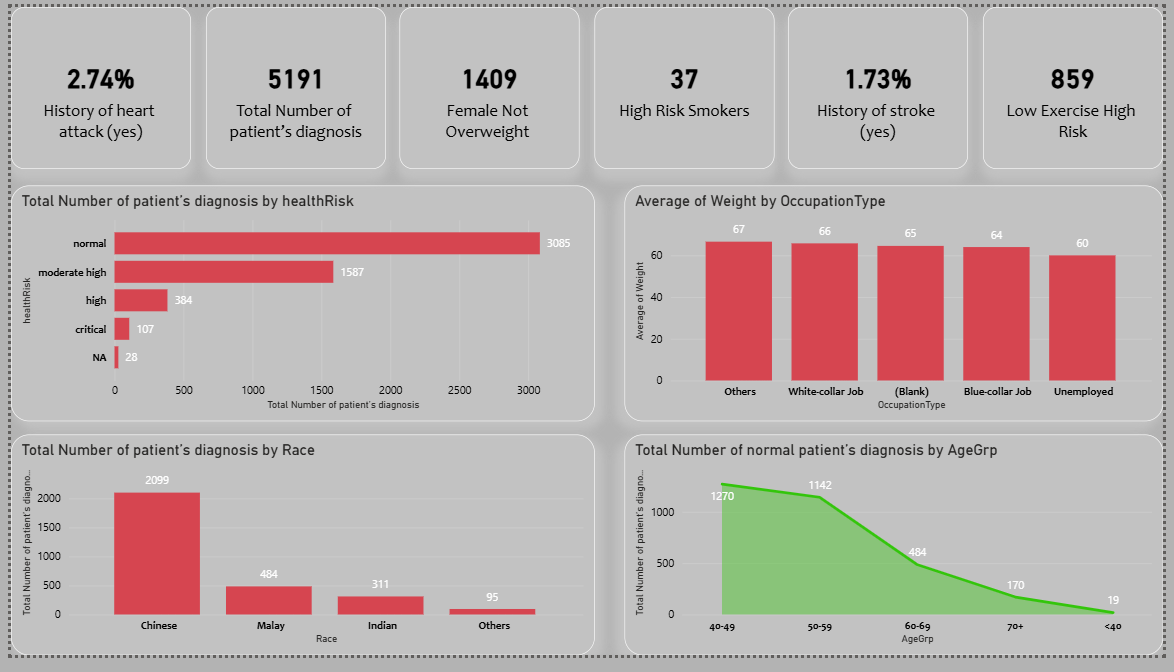

This screenshot's page, from the dashboard's own definition file:
{"tool":"powerbi","page":{"name":"Page 1","canvas":[1280,720],"ordinal":0},"visuals":[{"type":"card","fields":{"Values":["Patient History.1.Total Number of patient’s diagnosis"]},"box":[216,0,200,180],"z":0},{"type":"card","fields":{"Values":["Patient History.percentage of history of heart attack"]},"box":[0,0,200,180],"z":1000},{"type":"card","fields":{"Values":["Patient History.Female Not Overweight Count"]},"box":[432,0,200,180],"z":2000},{"type":"clusteredBarChart","fields":{"Category":["Patient History.healthRisk"],"Y":["Patient History.Total Number of patient’s diagnosis"]},"box":[0,198.3,648.3,261.7],"z":3000},{"type":"clusteredColumnChart","fields":{"Category":["Patient History.OccupationType"],"Y":["Avg(Patient History.Weight)"]},"box":[681.7,198.3,598.3,261.7],"z":4000},{"type":"clusteredColumnChart","fields":{"Category":["Patient History.Race"],"Y":["Patient History.Total Number of patient’s diagnosis"]},"box":[0,475,648.3,245],"z":5000},{"type":"areaChart","title":"Total Number of normal patient’s diagnosis by AgeGrp","fields":{"Y":["Patient History.Total Number of patient’s diagnosis"],"Category":["Patient History.AgeGrp"]},"box":[681.7,475,598.3,245],"z":6000},{"type":"card","fields":{"Values":["Patient History.High Risk Smokers"]},"box":[648,0,200,180],"z":7000},{"type":"card","fields":{"Values":["Patient History.percentage of history of stroke"]},"box":[864,0,200,180],"z":8000},{"type":"card","fields":{"Values":["Patient History.Low Exercise High Risk"]},"box":[1080,0,200,180],"z":9000}]}

Visuals, with their boxes in screenshot pixels (x1, y1, x2, y2), scaled from the page's 1280x720 canvas onto the 1174x672 screenshot:
card - Patient History.1.Total Number of patient’s diagnosis: left=198, top=0, right=382, bottom=168
card - Patient History.percentage of history of heart attack: left=0, top=0, right=183, bottom=168
card - Patient History.Female Not Overweight Count: left=396, top=0, right=580, bottom=168
clusteredBarChart - Patient History.healthRisk x Patient History.Total Number of patient’s diagnosis: left=0, top=185, right=595, bottom=429
clusteredColumnChart - Patient History.OccupationType x Avg(Patient History.Weight): left=625, top=185, right=1173, bottom=429
clusteredColumnChart - Patient History.Race x Patient History.Total Number of patient’s diagnosis: left=0, top=443, right=595, bottom=671
"Total Number of normal patient’s diagnosis by AgeGrp" areaChart: left=625, top=443, right=1173, bottom=671
card - Patient History.High Risk Smokers: left=594, top=0, right=778, bottom=168
card - Patient History.percentage of history of stroke: left=792, top=0, right=976, bottom=168
card - Patient History.Low Exercise High Risk: left=991, top=0, right=1173, bottom=168
